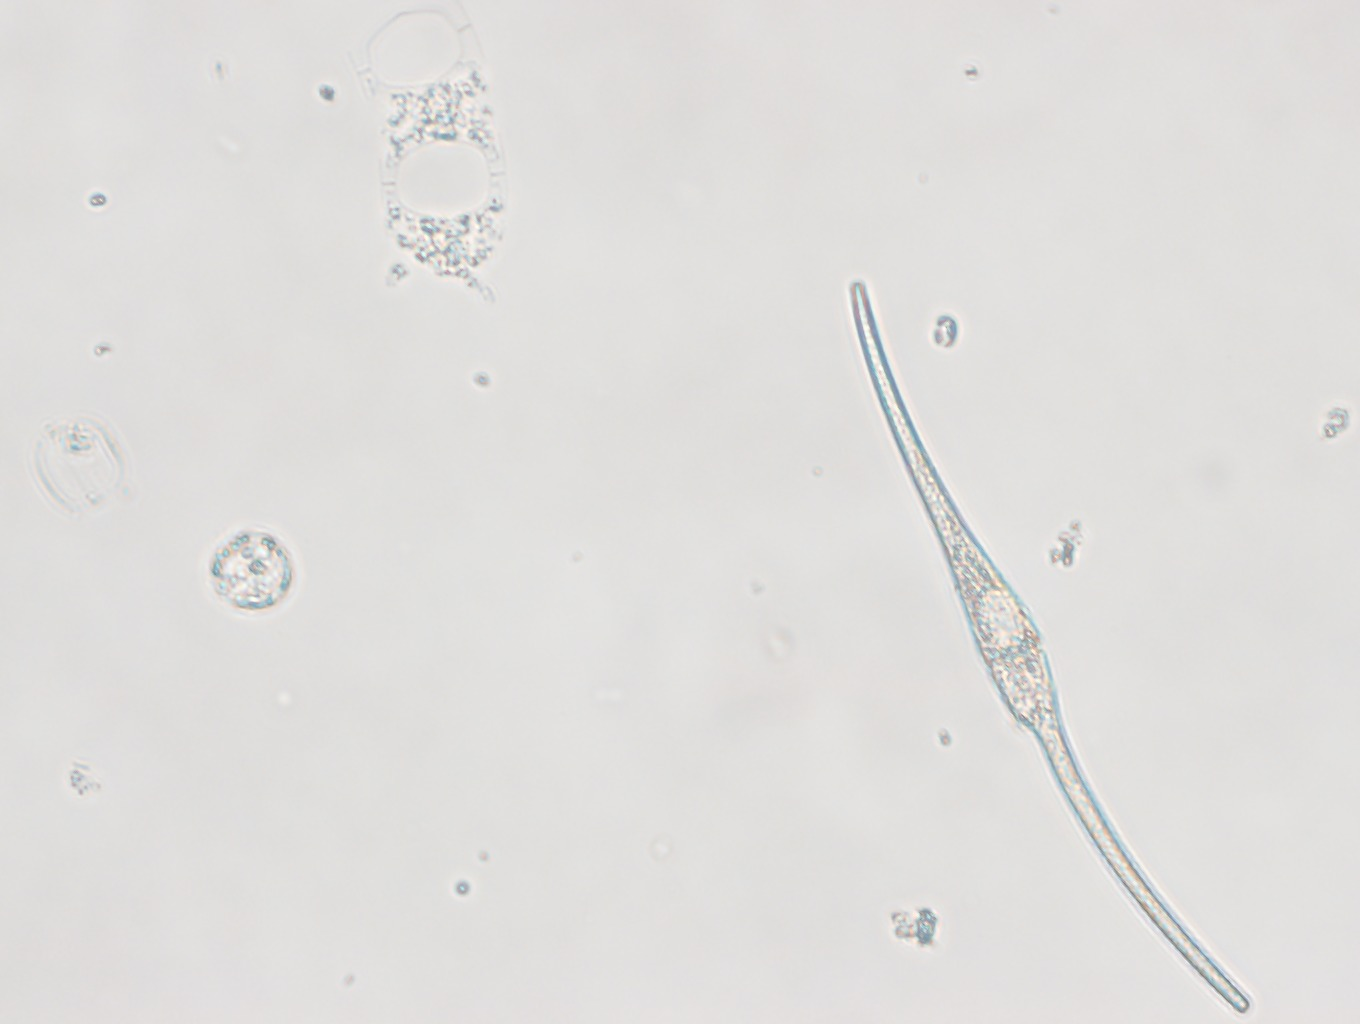ceratium fusus: (847, 276, 1256, 1016)
eucampia: (353, 1, 511, 308)
